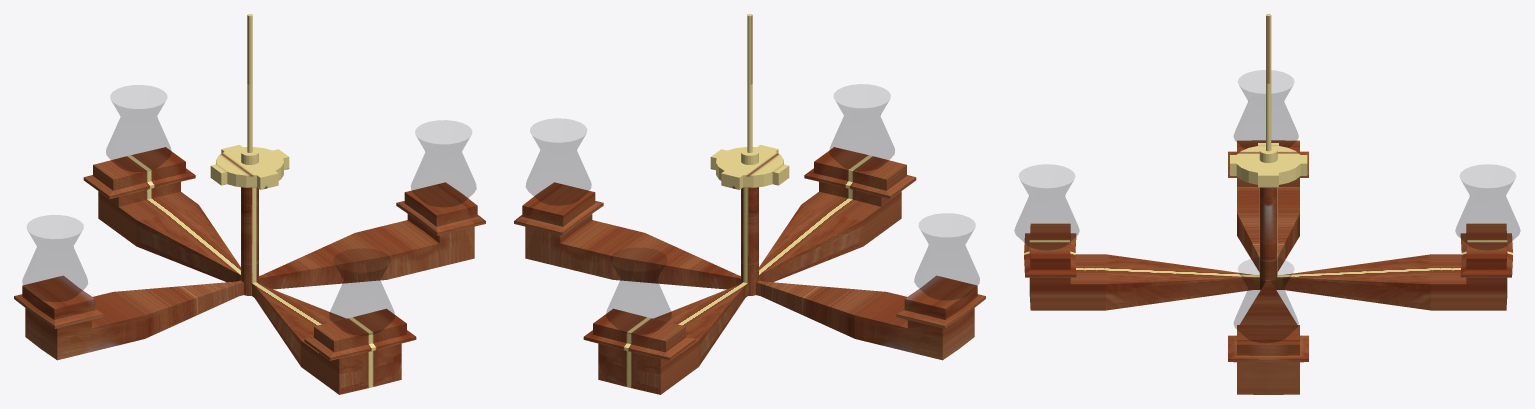
File: LamparaTecho 1.fbx
3 views of the same model, side by side, from view 1: azimuth 30°, elevation 25°; view 2: azimuth 150°, elevation 25°; view 3: azimuth 270°, elevation 25° (orthographic).
Visible parts, largest first — view 1: LamparaDeTecho; view 2: LamparaDeTecho; view 3: LamparaDeTecho.
Boxes of the visible parts, x1=… form: LamparaDeTecho: x1=14, y1=14, x2=485, y2=394; LamparaDeTecho: x1=514, y1=14, x2=985, y2=394; LamparaDeTecho: x1=1014, y1=14, x2=1520, y2=394.
Size of the model in its own units: 1.02 by 0.621 by 1.02.
2 materials, 1 textured.
